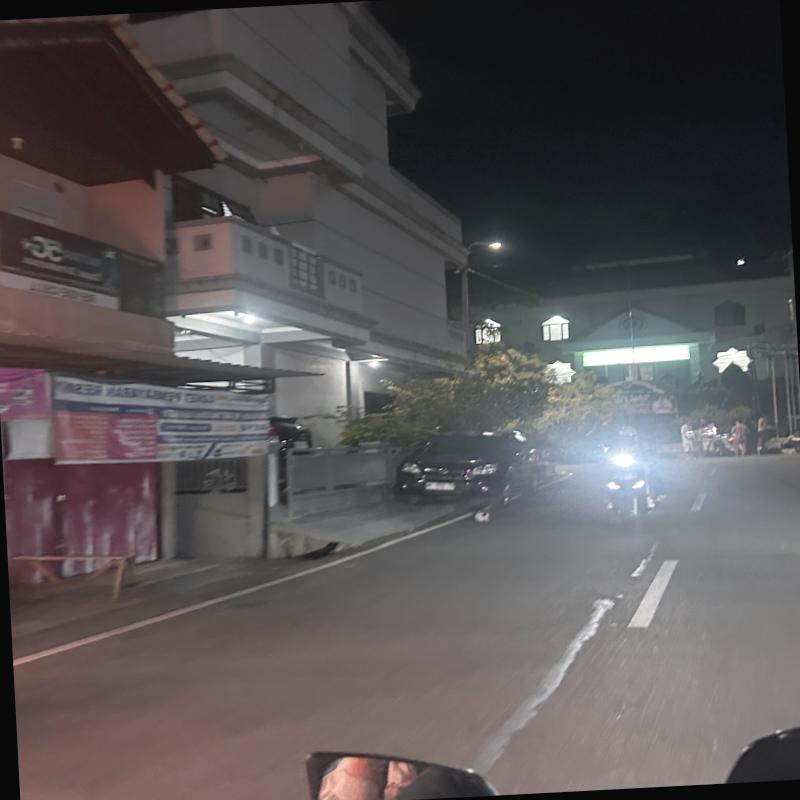license plate on a car: (420, 480, 453, 494)
